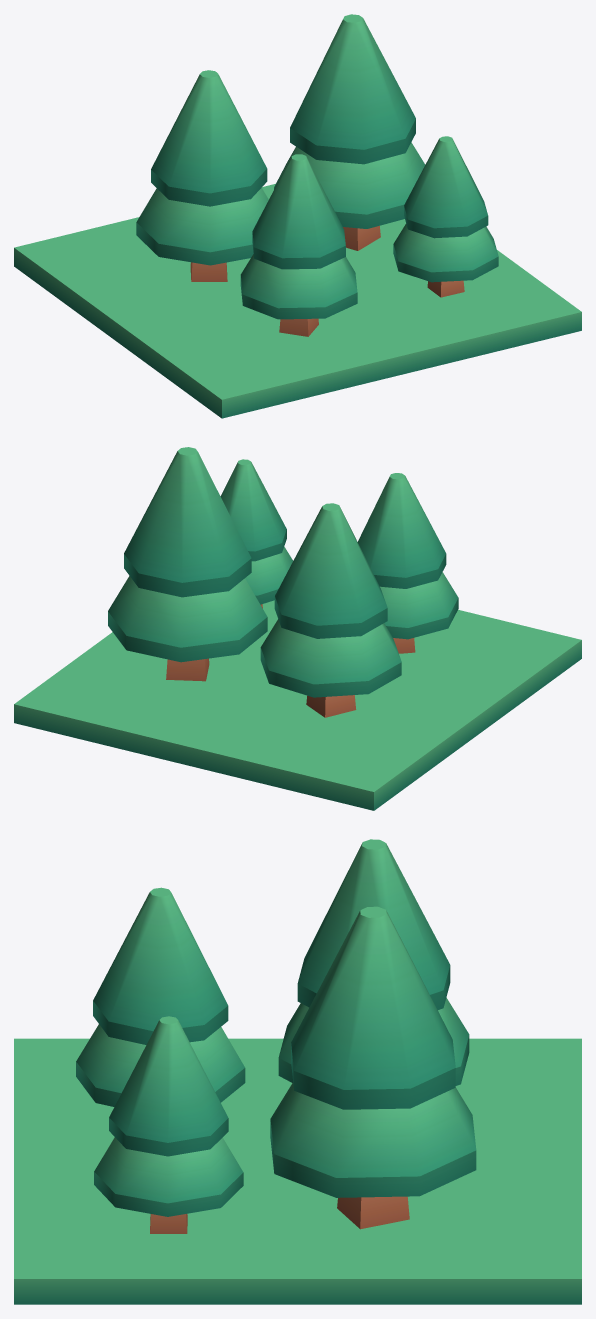
The model's file is ke_grass-trees.glb.
3 renders of one model, top to bottom at view 1: azimuth 30°, elevation 25°; view 2: azimuth 150°, elevation 25°; view 3: azimuth 270°, elevation 25°, orthographic. The views are drawn at different scales.
Visible parts, largest first — view 1: grass-trees; view 2: grass-trees; view 3: grass-trees.
Part boxes in pixels (x1,y1,x2,y2): grass-trees: (14, 14, 581, 418); grass-trees: (14, 447, 581, 810); grass-trees: (14, 839, 581, 1304).
Size of the model in its own units: 1 by 0.6359 by 1.
1 material, 1 textured.
